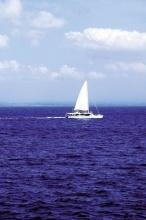fanchuan: (64, 77, 105, 122)
